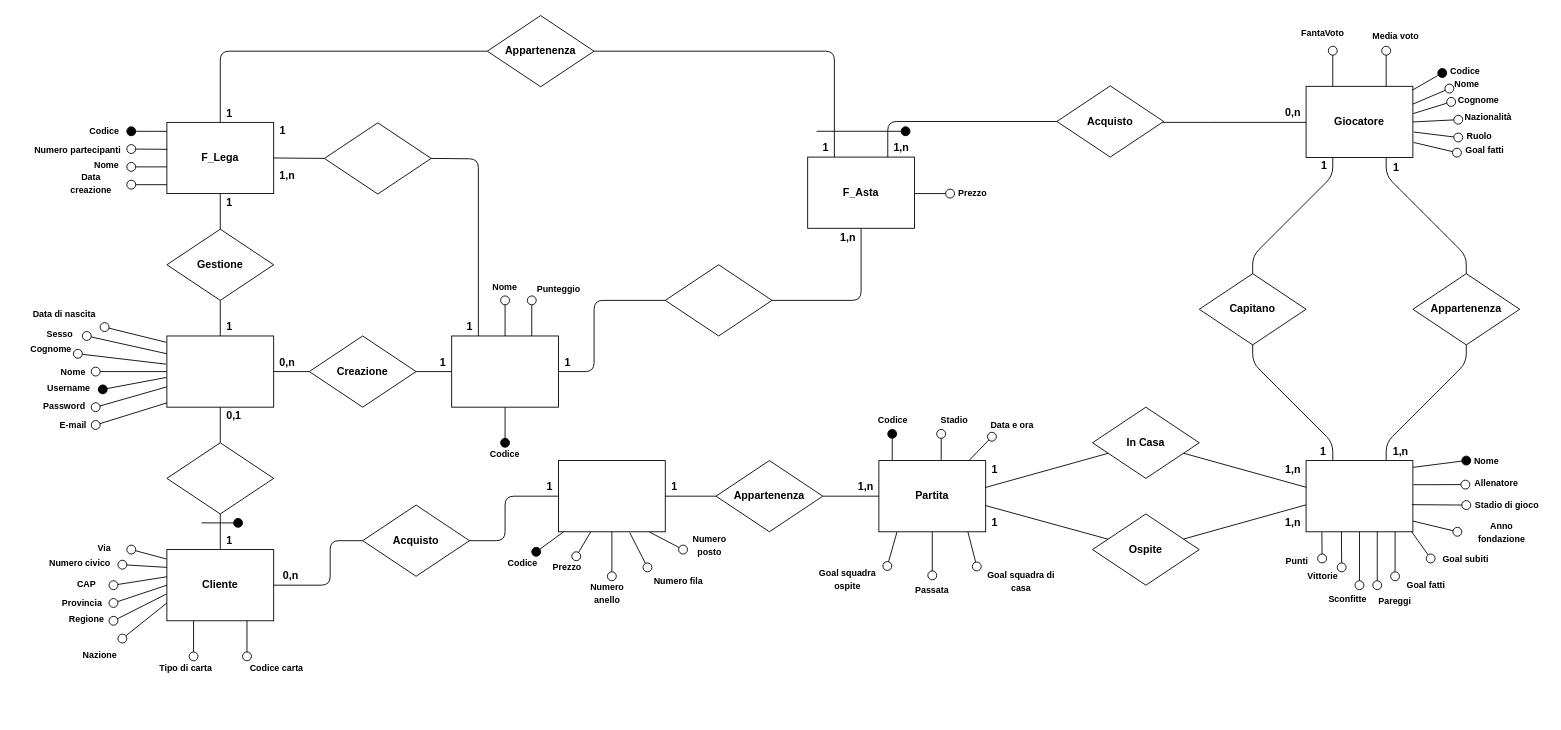
Some shapes in this 1561 by 730 pixel diagram are drawn without their labels. Here are the shapes that lost their labels. From the top down, the centre of each, then its label:
(377,158): Partecipazione
(718,300): Composizione
(220,371): Utente
(504,371): F_FantaSqudra
(220,478): Specializzazione
(611,496): Biglietto
(1359,496): Squadra
